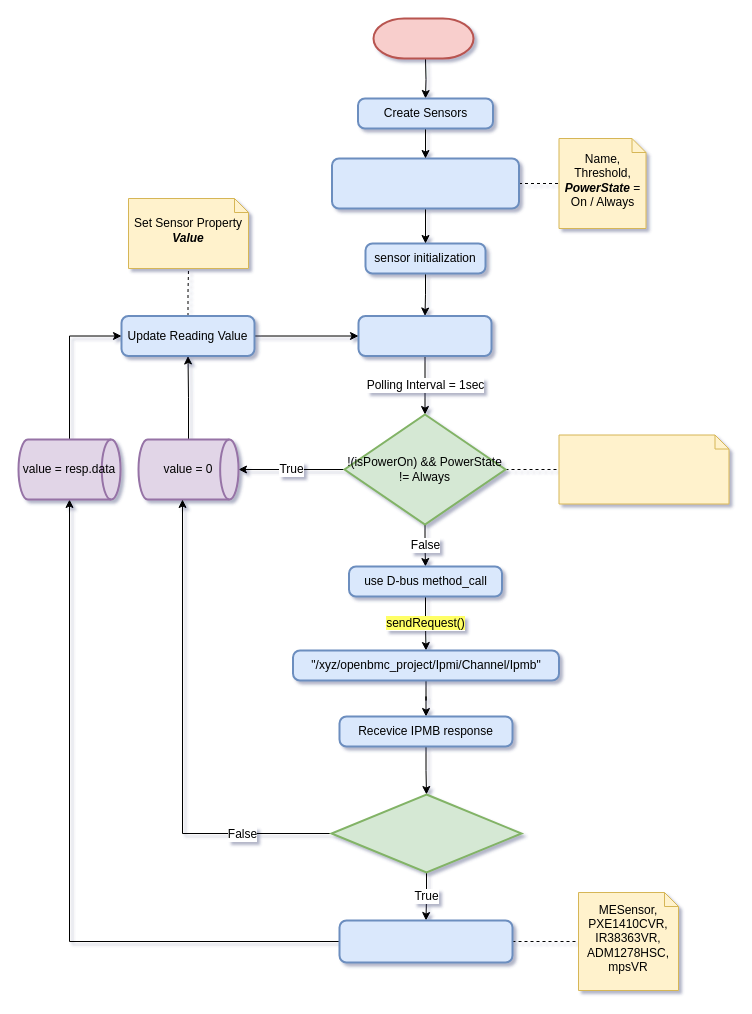
Some shapes in this 752 by 1014 pixel diagram are drawn without their labels. The box of each missing label's shape, as (x1, y1, x2, y2) in pixels:
Completion Code Return Success: (330, 793, 522, 873)
Construct response data depends on IpmbType: (338, 919, 513, 963)
Get Sensor Properties from entity-manager JSON: (330, 157, 520, 209)
IpmbSensor.cpp: (372, 17, 474, 59)
Read Sensor Value: (357, 314, 492, 356)
xyz.openbmc_project.State .Host.CurrentHostState: (558, 434, 729, 504)
